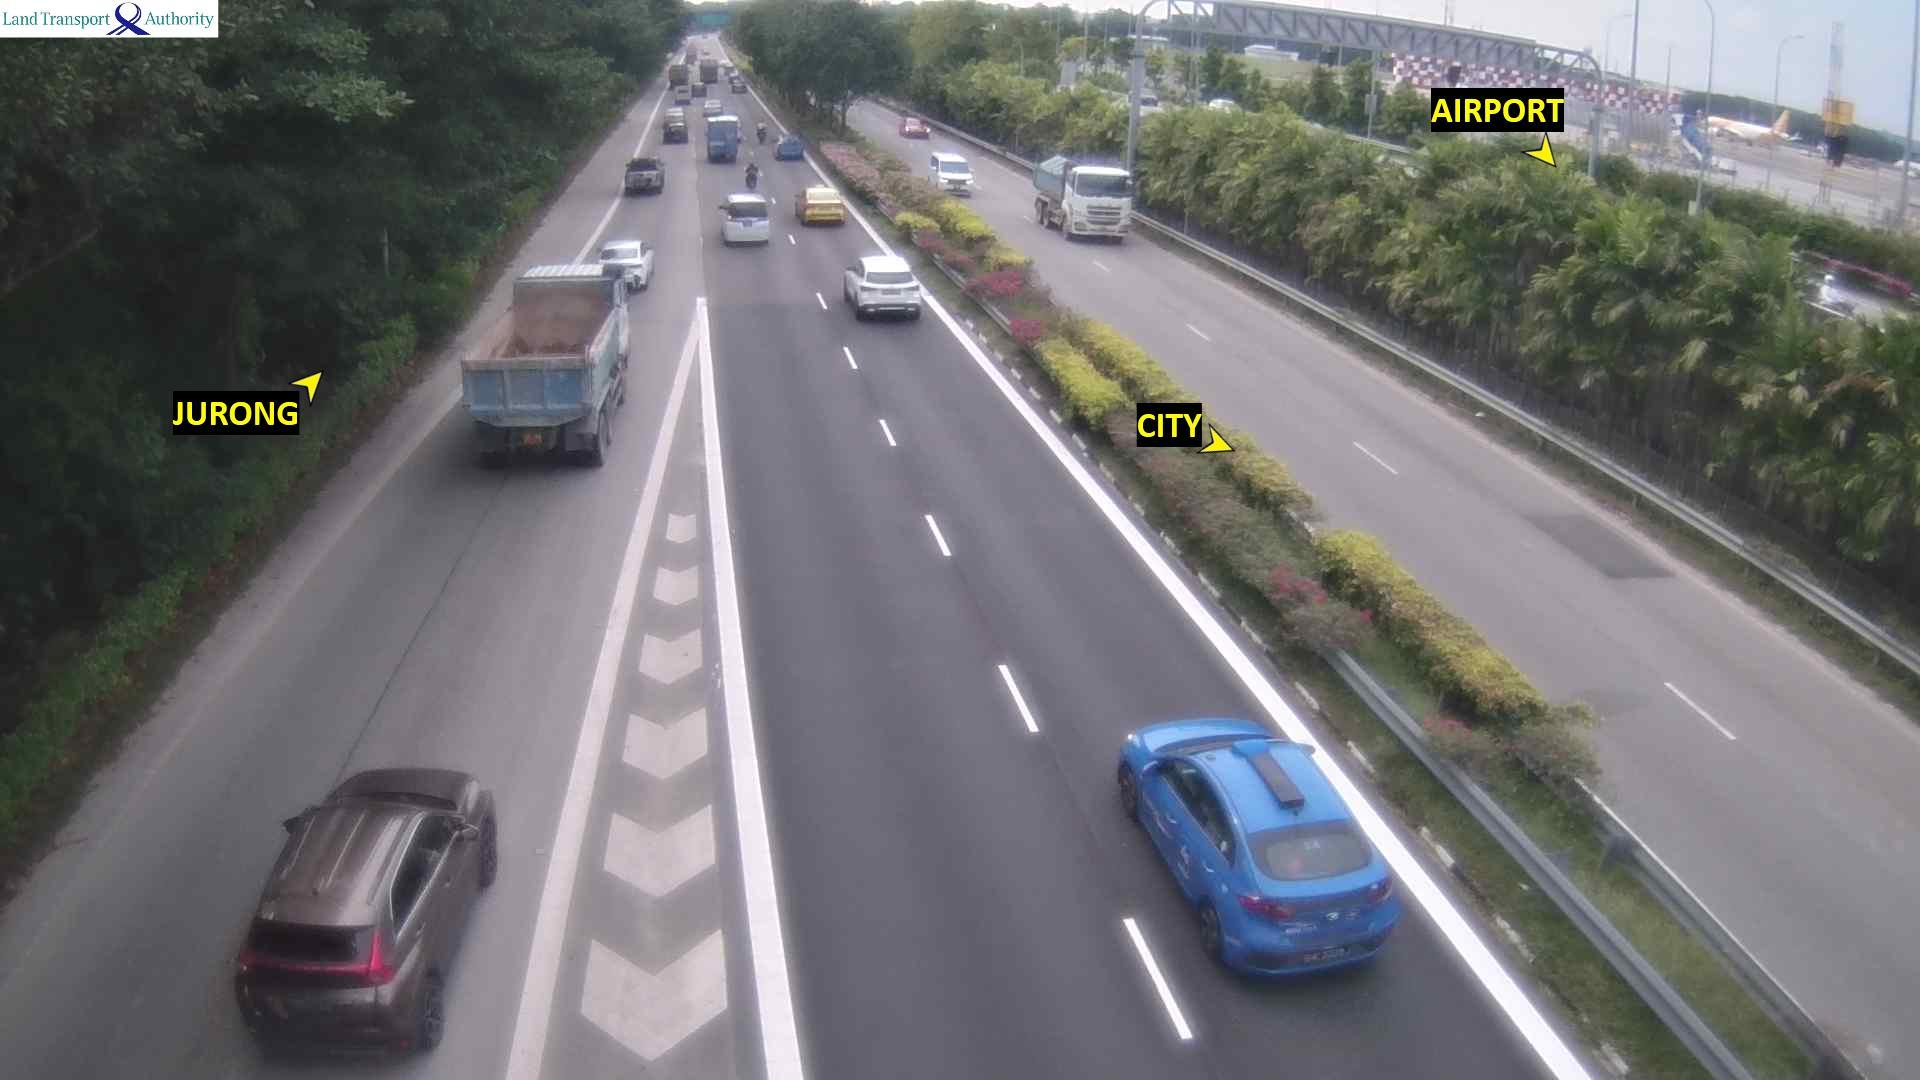incoming: (1063, 167, 1135, 245), (930, 158, 977, 198), (903, 117, 934, 140)
